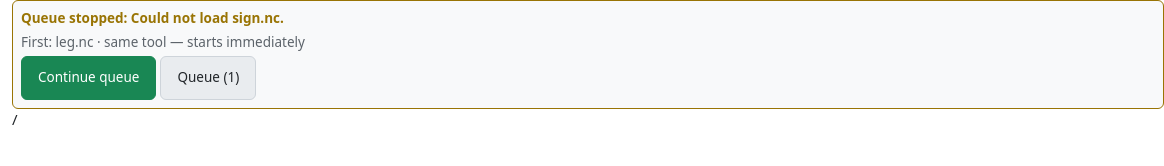
Queue summary on the control screen › says why it stopped and continues in one click
This screenshot has width=1164, height=166.
Expected: the message reads "Queue stopped: Could not load sign.nc.", top-left (21, 9), bottom-right (284, 27)
Expected: the element named "Job queue" shows "First: leg.nc · same tool — starts immediately", top-left (21, 33), bottom-right (305, 51)
Click the button "Continue queue".
click(89, 78)  # box top-left (21, 56), bottom-right (156, 100)
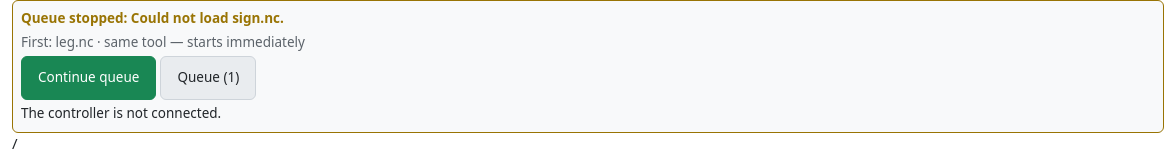
Expected: the message "The controller is not connected." is shown, top-left (21, 104), bottom-right (221, 122)
